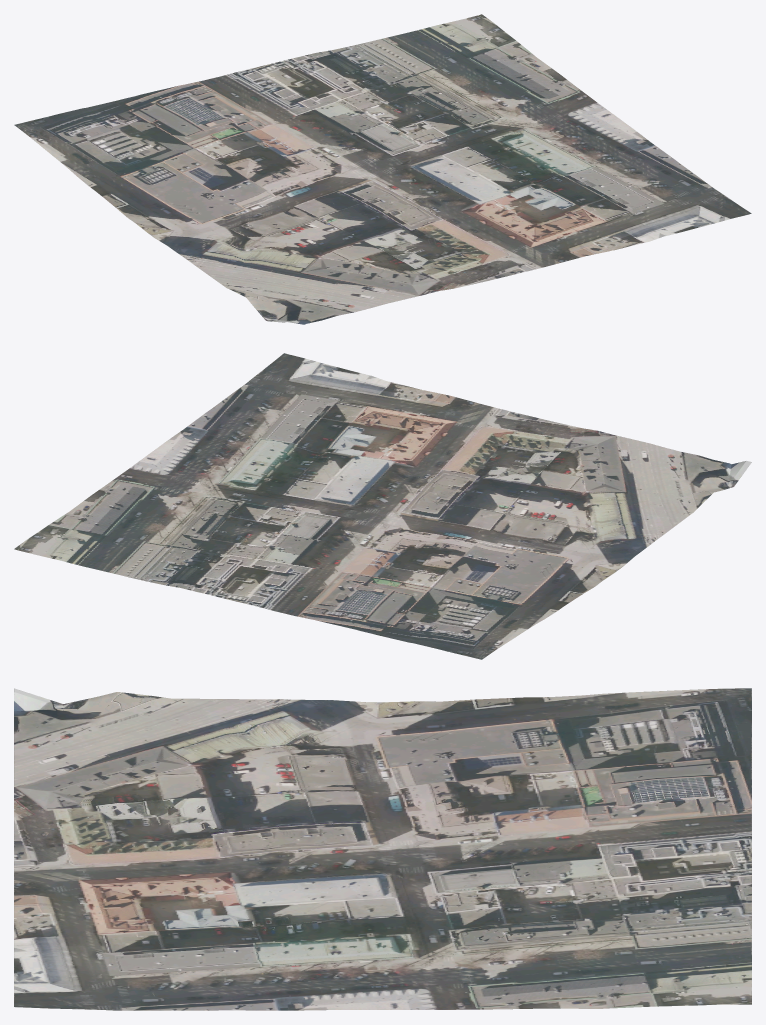
The model's file is CM_Terrain_24487592_6820818.fbx.
3 views of the same model, one above another, from view 1: azimuth 30°, elevation 25°; view 2: azimuth 150°, elevation 25°; view 3: azimuth 270°, elevation 25° (orthographic). The views are drawn at different scales.
Parts seen in each view (by area): view 1: CM_Terrain_24487592_6820818_LOD0; view 2: CM_Terrain_24487592_6820818_LOD0; view 3: CM_Terrain_24487592_6820818_LOD0.
Boxes of the visible parts, x1,y1,x2,y2 form: CM_Terrain_24487592_6820818_LOD0: [14, 14, 751, 324]; CM_Terrain_24487592_6820818_LOD0: [14, 353, 751, 659]; CM_Terrain_24487592_6820818_LOD0: [14, 688, 751, 1010].
Size of what is drawn, in the model's own units: 205 by 6.15 by 205.
